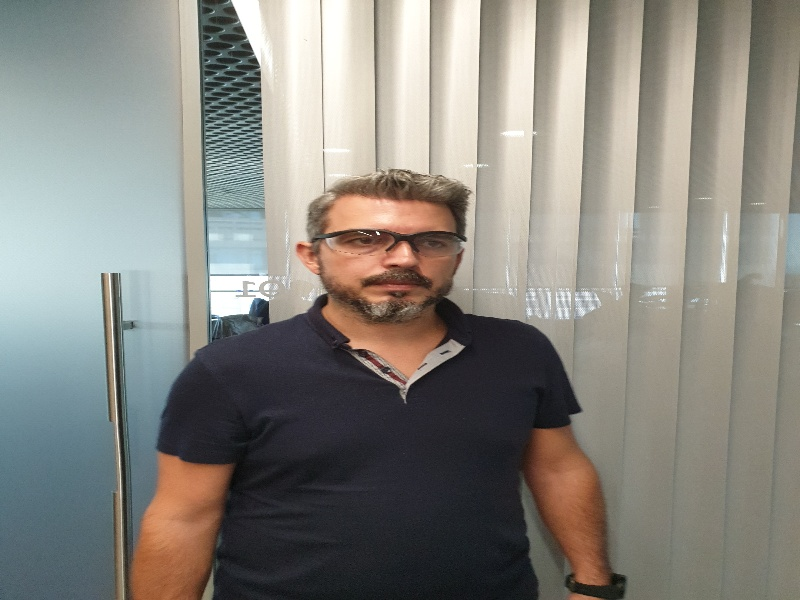Gozluk: (315, 229, 469, 258)
